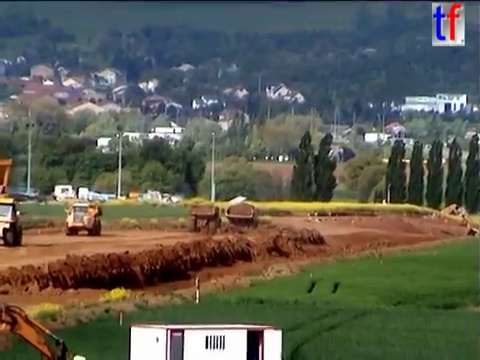excavator: (1, 298, 88, 360), (1, 156, 16, 197)
truck: (62, 199, 105, 237), (186, 199, 229, 235), (1, 194, 26, 248), (224, 201, 260, 235)
